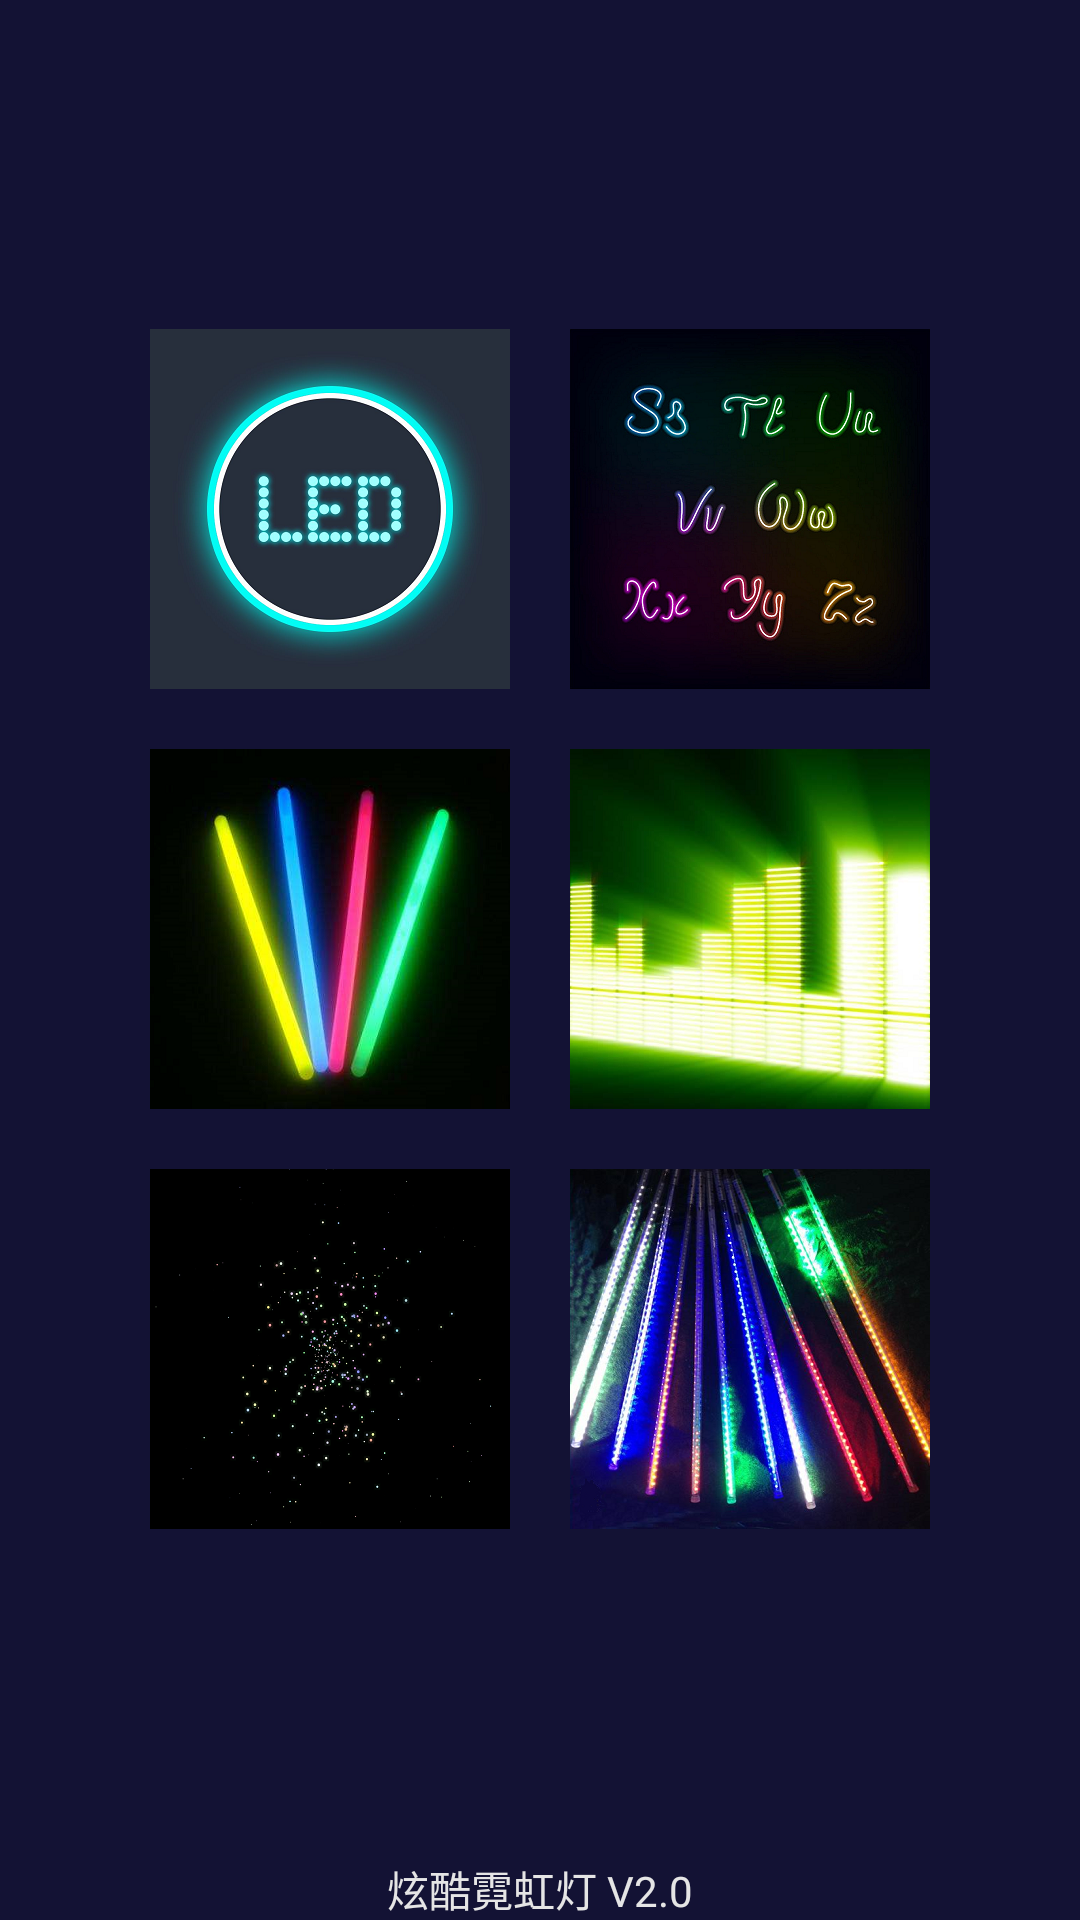

Icons on this 1080 × 1920 Android screen, each with its box as bbox(x1, y1, x2, y2):
glow stick: bbox(150, 749, 510, 1109)
hand writing: bbox(570, 329, 930, 689)
meteor: bbox(570, 1169, 930, 1529)
music: bbox(570, 749, 930, 1109)
spark: bbox(150, 1169, 510, 1529)
